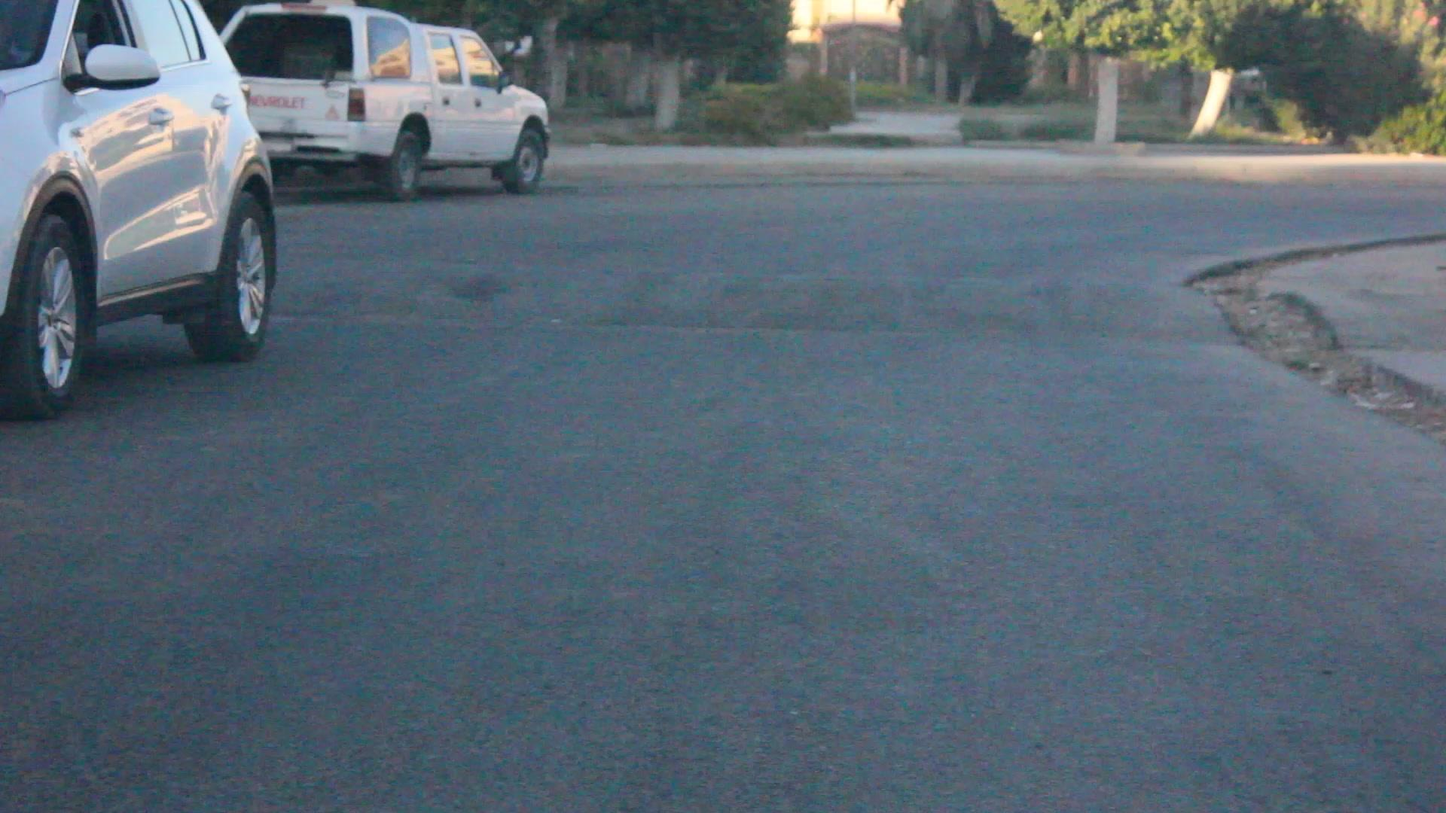Bump: (284, 241, 1228, 339)
